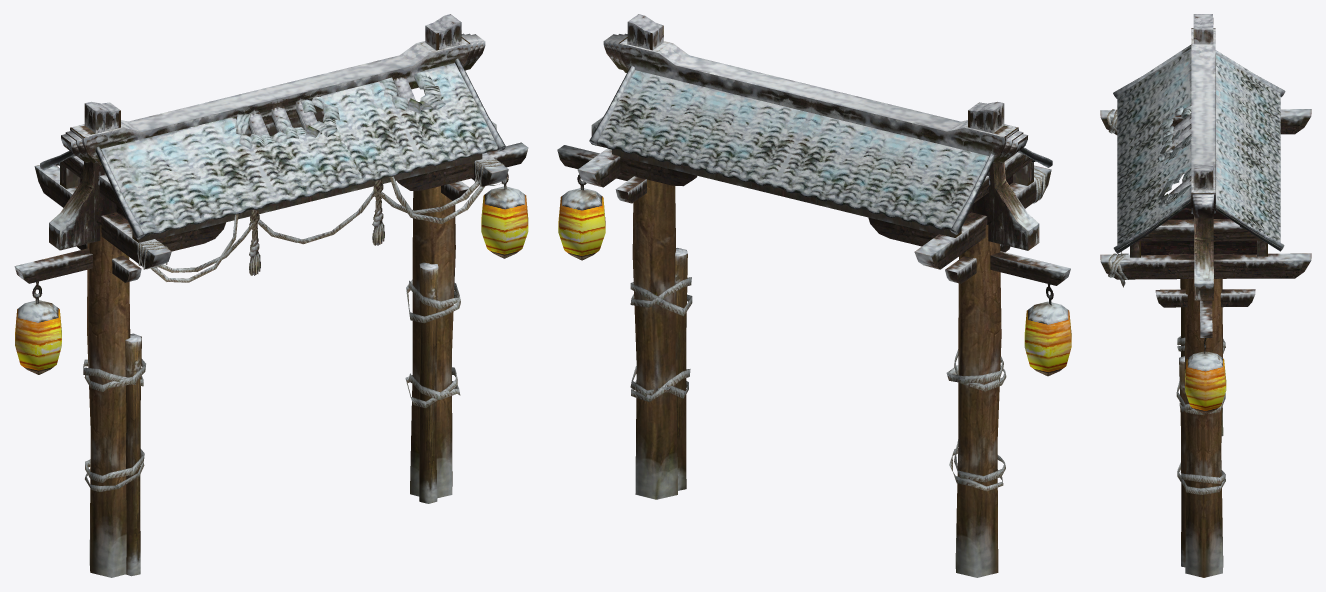
The model's file is Item_11.FBX.
3 renders of one model, left to right at view 1: azimuth 30°, elevation 25°; view 2: azimuth 150°, elevation 25°; view 3: azimuth 270°, elevation 25°, orthographic. The views are drawn at different scales.
Parts seen in each view (by area): view 1: Item_11; view 2: Item_11; view 3: Item_11.
Part boxes in pixels (x1,y1,x2,y2): Item_11: (14,14,528,577); Item_11: (557,14,1071,577); Item_11: (1100,14,1311,577).
Size of the model in its own units: 647 by 263 by 562.
